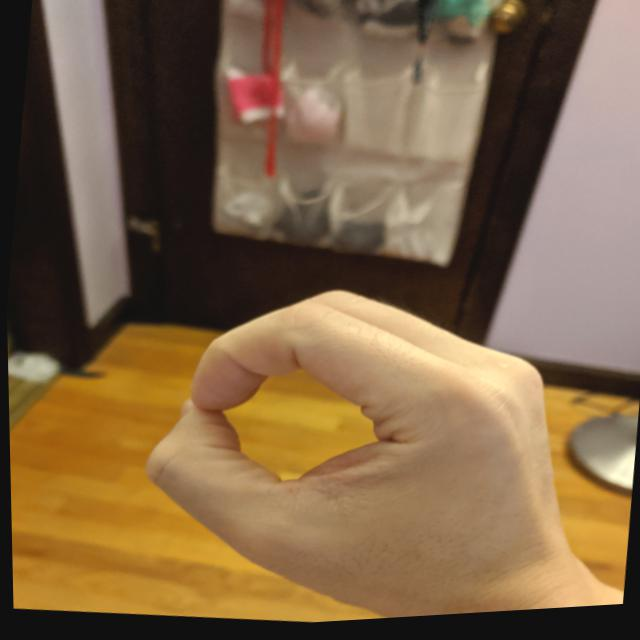O: (115, 257, 601, 634)
